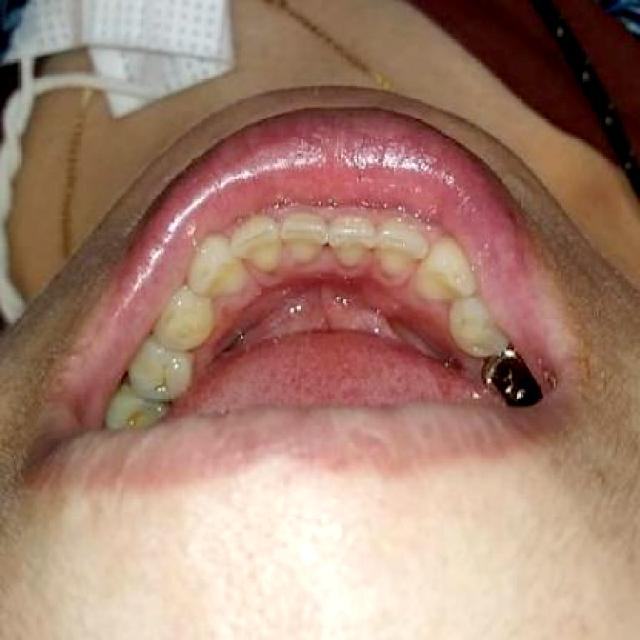Plaque: (458, 312, 480, 336), (360, 241, 385, 260), (318, 239, 340, 258), (146, 379, 173, 394), (409, 252, 428, 271)
